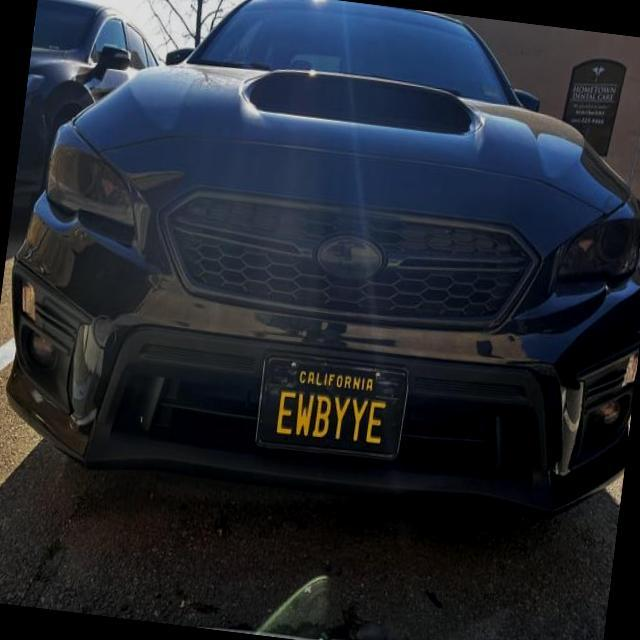LicensePlate: (252, 350, 408, 460)
